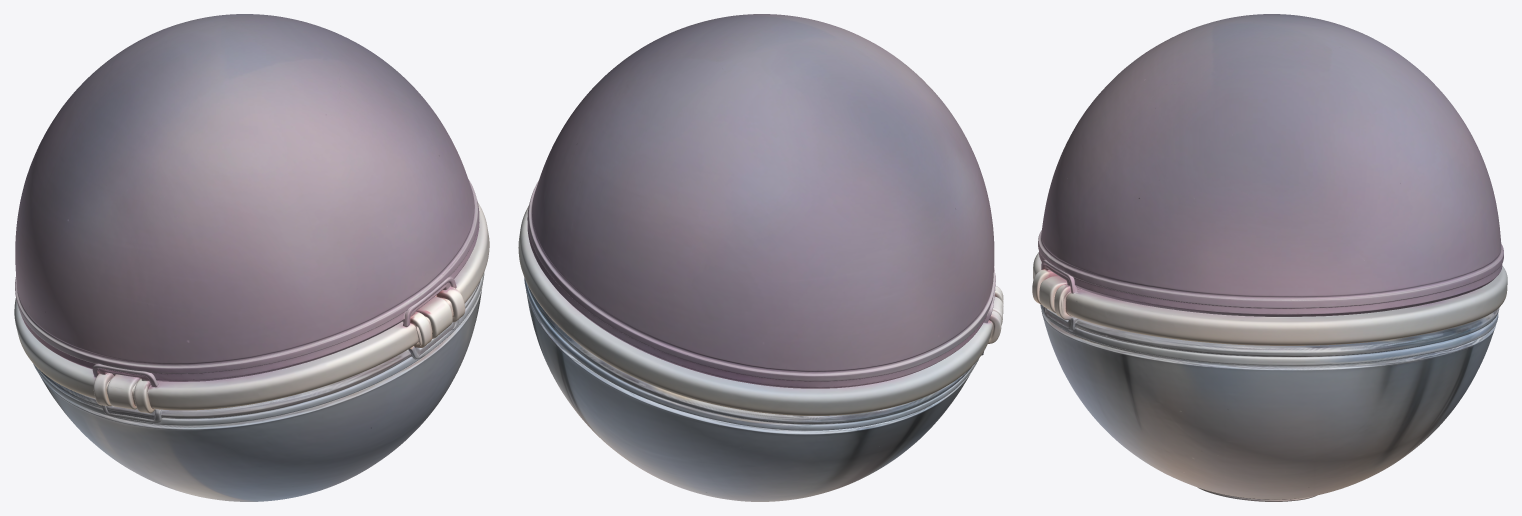
The model's file is portfolio-capsule.optimized.glb.
3 renders of one model, left to right at view 1: azimuth 30°, elevation 25°; view 2: azimuth 150°, elevation 25°; view 3: azimuth 270°, elevation 25°, orthographic.
Visible parts, largest first — view 1: node_0; view 2: node_0; view 3: node_0.
Part boxes in pixels (left/top/right/bottom): node_0: left=14, top=14, right=489, bottom=501; node_0: left=518, top=14, right=1003, bottom=501; node_0: left=1032, top=14, right=1507, bottom=501.
Size of the model in its own units: 1.12 by 1.17 by 1.14.
1 material, 1 textured.
